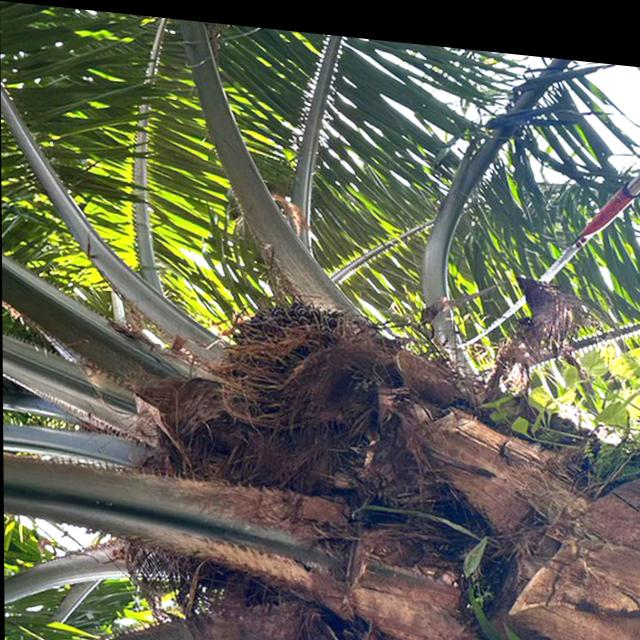unripe: (221, 276, 394, 452)
